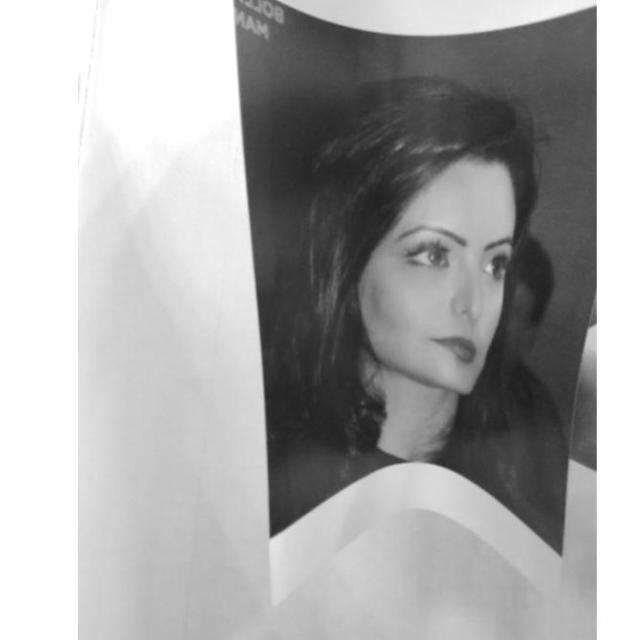fake: (226, 0, 594, 606)
